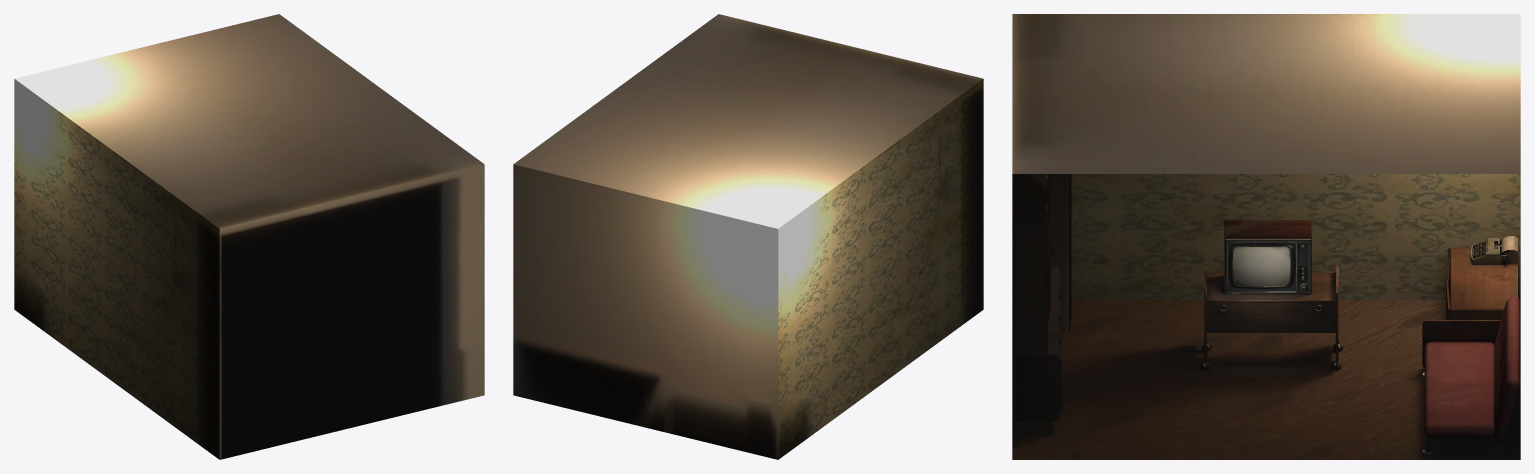
The model's file is watching_tv-optimized.glb.
3 renders of one model, left to right at view 1: azimuth 30°, elevation 25°; view 2: azimuth 150°, elevation 25°; view 3: azimuth 270°, elevation 25°, orthographic. The views are drawn at different scales.
Visible parts, largest first — view 1: walls; view 2: walls; view 3: walls, others, main.
Boxes of the visible parts, bbox=[...] form: walls: bbox=[14, 14, 484, 459]; walls: bbox=[513, 14, 983, 459]; walls: bbox=[1012, 14, 1520, 459]; others: bbox=[1015, 174, 1519, 453]; main: bbox=[1200, 220, 1343, 369].
Bounding box in the file's own units: 2.4 × 2 × 3.22.
Materials: 3 (3 with a texture image).
